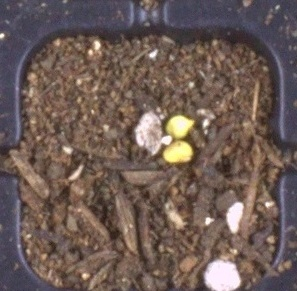chilli seed: (165, 116, 195, 140), (163, 139, 193, 163)
